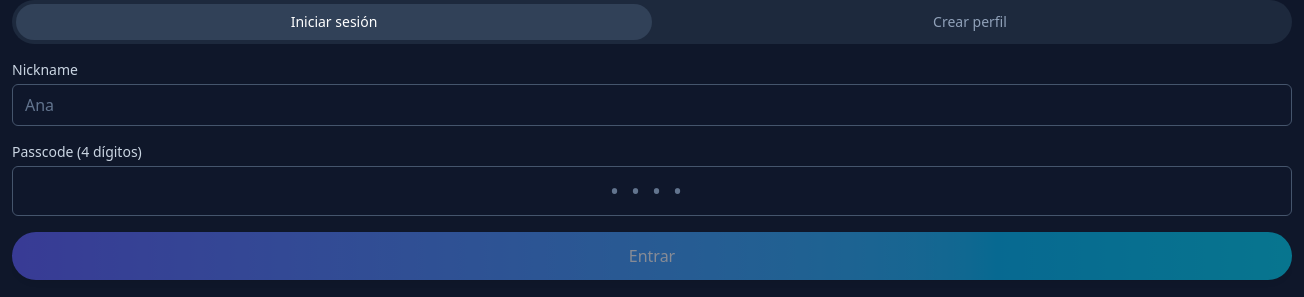
<AuthForm /> › strips non-digits and caps at 4 characters regardless of what's typed or pasted in
This screenshot has width=1304, height=297.
Step 1. Type "12a3456" into the password field with test id "passcode" → (652, 191), box [12, 166, 1292, 216]
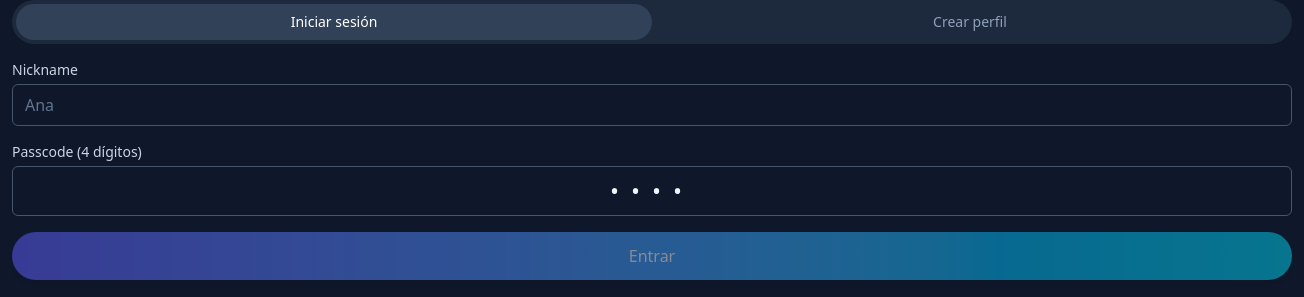
Expected: the password field with test id "passcode" holds "1234", [12, 166, 1292, 216]
